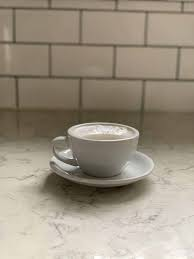cup: (49, 121, 144, 179)
